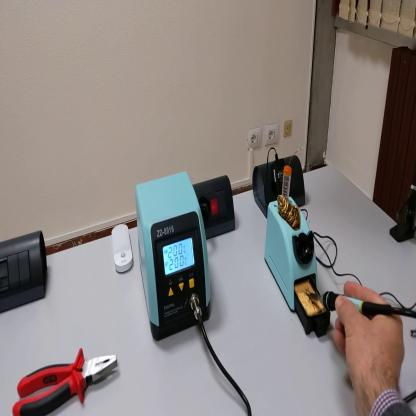hand: (331, 281, 406, 394)
pliers: (12, 349, 122, 416)
socket: (253, 154, 307, 217), (194, 174, 238, 242)
welder base: (265, 166, 332, 340)
welder probe tip: (307, 292, 394, 317)
welder station: (135, 163, 213, 340)
